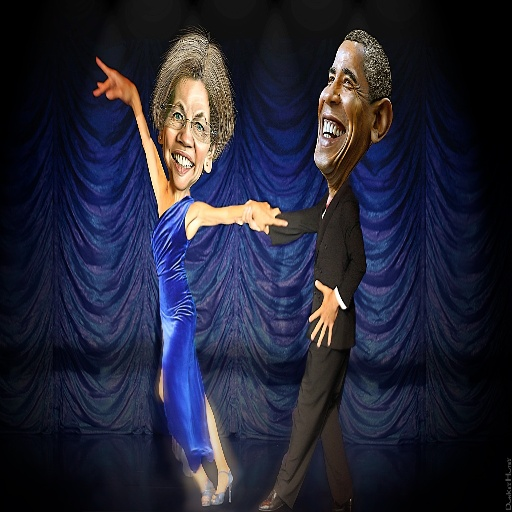hand: (307, 277, 339, 346), (92, 57, 135, 106), (245, 199, 287, 234), (234, 199, 268, 234)
